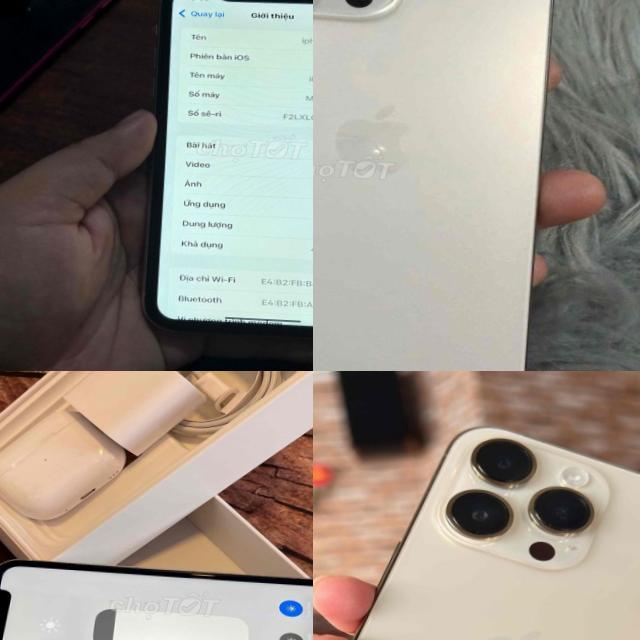gen_11: (0, 561, 313, 640)
gen_14: (313, 413, 640, 640)
gen_16: (313, 0, 552, 371)
gen_x_xs: (131, 0, 313, 352)
